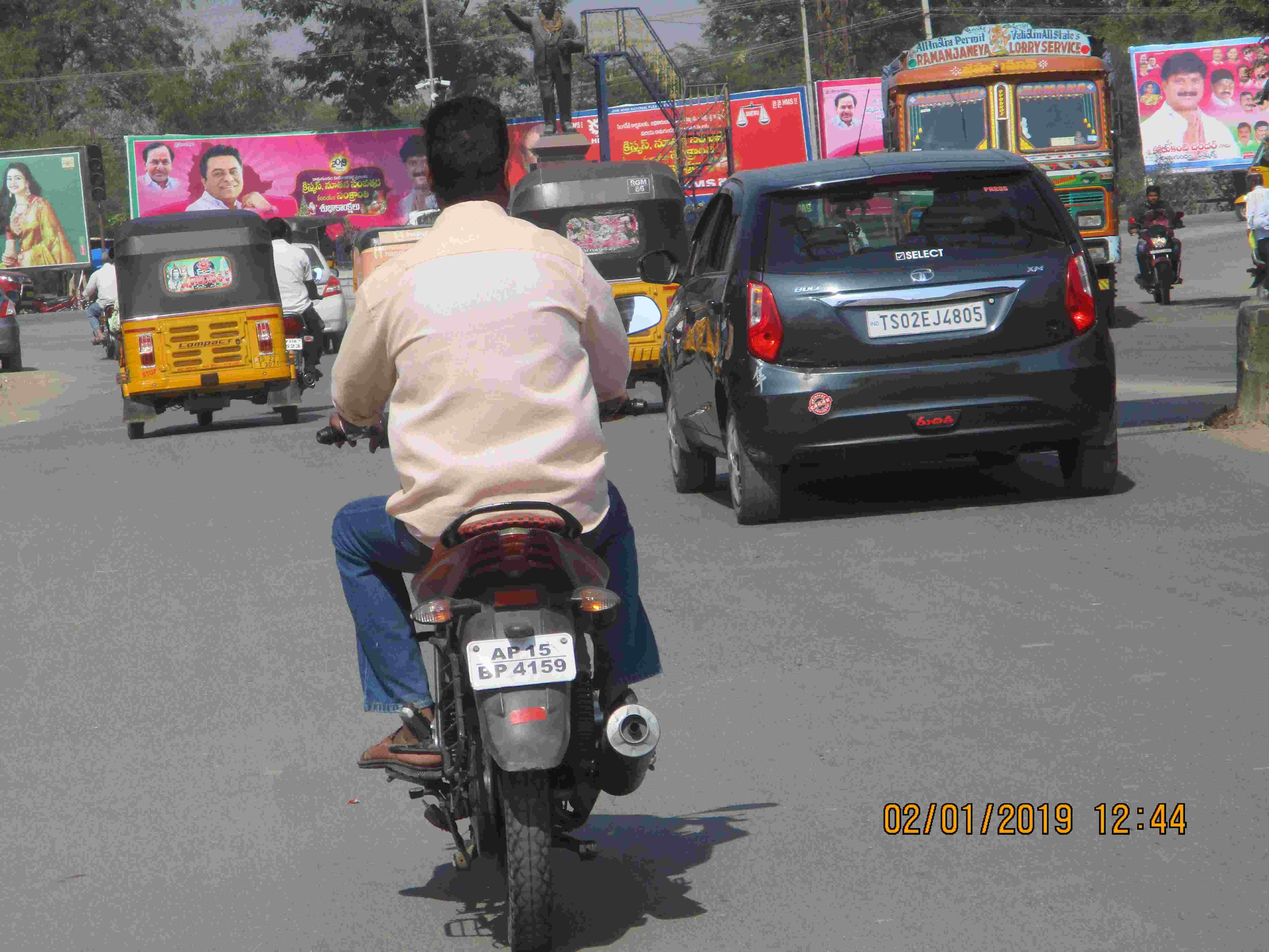plate: (463, 629, 583, 696), (858, 299, 999, 344)
